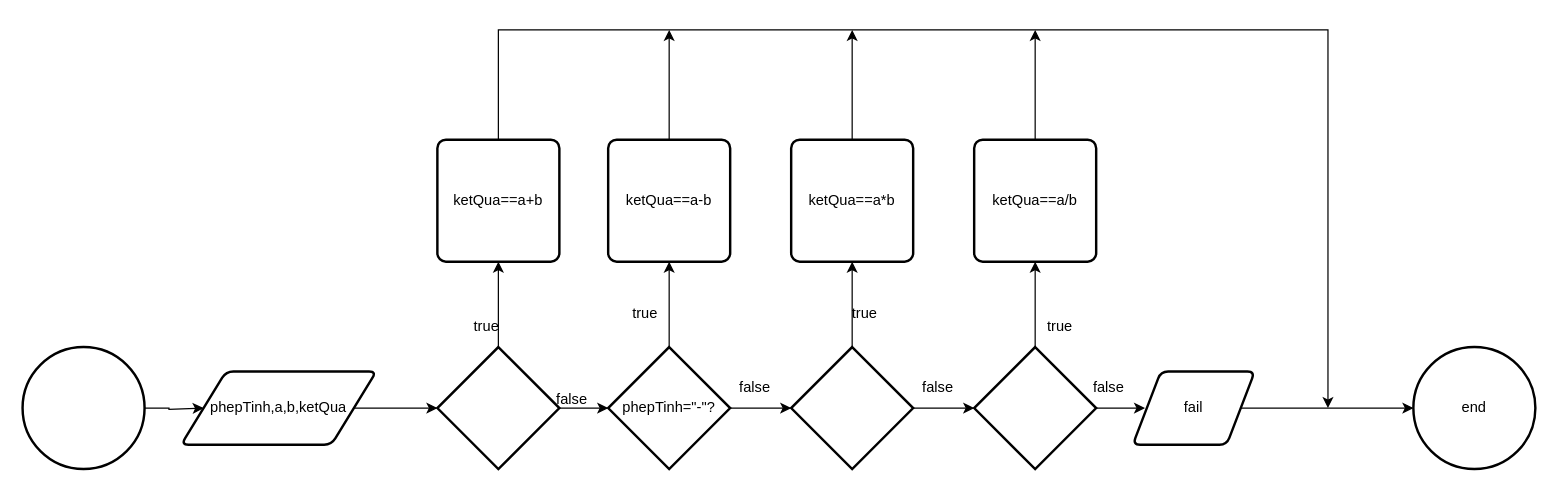
Some shapes in this 1557 by 492 pixel diagram are drawn without their labels. Here are the shapes that lost their labels. From the top down, the centre of each, then its label:
(83,407): Start
(498,407): phepTinh="+"?
(851,407): phepTinh="*"?
(1034,407): phepTinh="/"?
